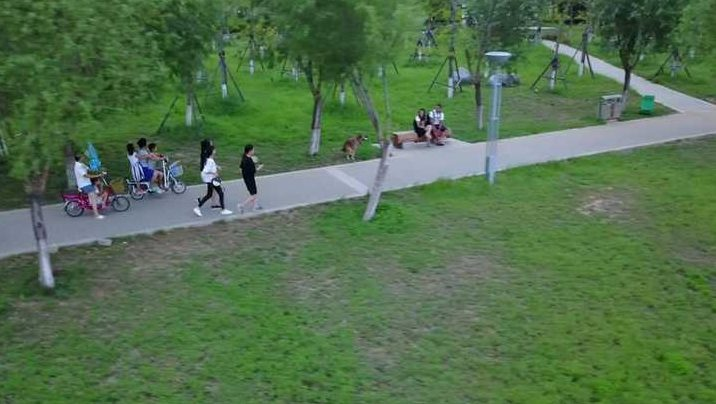motor: (61, 173, 130, 216), (124, 156, 186, 199)
pedestrian: (194, 144, 235, 216), (192, 140, 226, 210), (238, 143, 264, 216)
people: (72, 149, 108, 220), (136, 137, 171, 192), (127, 143, 156, 194), (428, 104, 452, 147), (409, 108, 433, 148), (149, 142, 168, 188), (88, 180, 112, 210)
